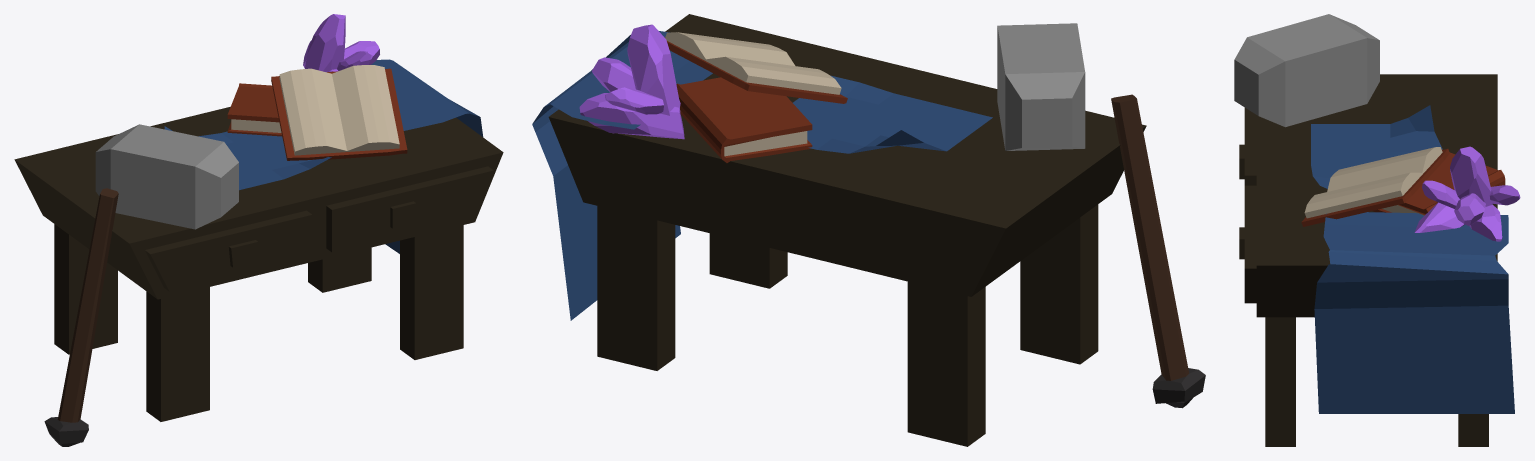
The model's file is WorkBench.fbx.
The picture shows the model from 3 angles, left to right: view 1: azimuth 30°, elevation 25°; view 2: azimuth 150°, elevation 25°; view 3: azimuth 270°, elevation 25°; orthographic projection. The views are drawn at different scales.
Parts seen in each view (by area): view 1: Cube.002; view 2: Cube.002; view 3: Cube.002.
Boxes of the visible parts, x1,y1,x2,y2 form: Cube.002: (14, 14, 503, 446); Cube.002: (532, 14, 1205, 446); Cube.002: (1234, 14, 1520, 446).
Bounding box in the file's own units: 447 × 274 × 237.
